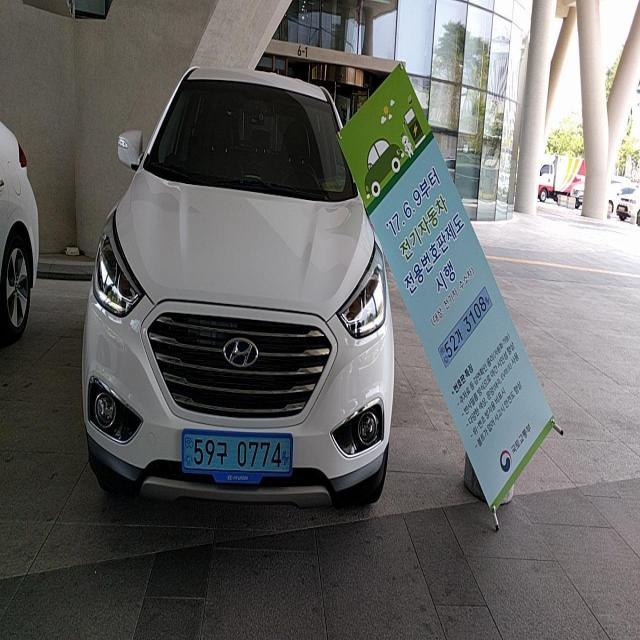EV_plate: (181, 429, 293, 487)
car: (80, 58, 396, 522)
